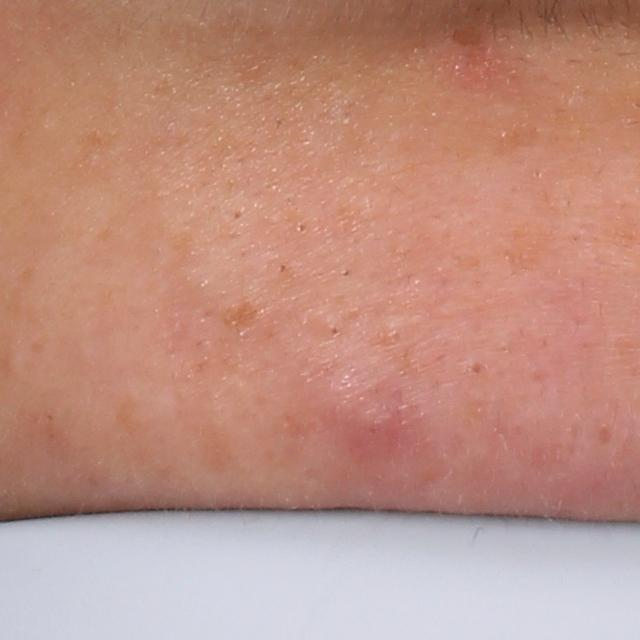comedo: (461, 354, 487, 380)
